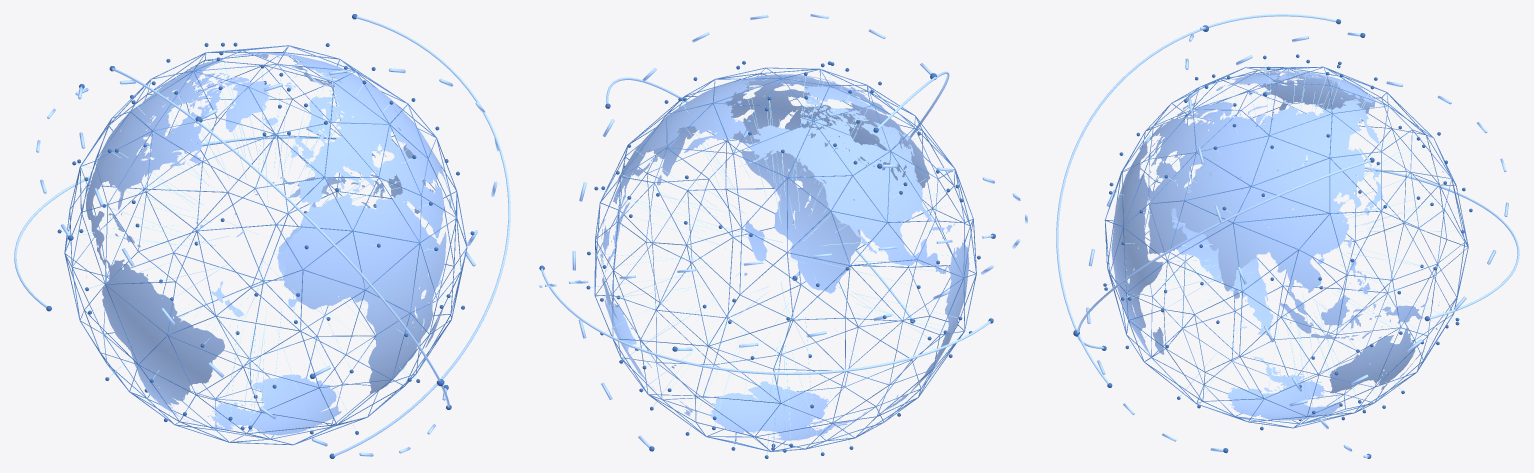
Rendered from Globe.glb.
3 views of the same model, side by side, from view 1: azimuth 30°, elevation 25°; view 2: azimuth 150°, elevation 25°; view 3: azimuth 270°, elevation 25° (orthographic). The views are drawn at different scales.
Parts seen in each view (by area): view 1: Earth, wires2, Sphere, Curve, Curve.002, Sphere.001, Curve.003, Curve.004, Curve.001; view 2: Earth, wires2, Sphere, Curve.003, Sphere.001, Curve.001, Curve.004, Curve, Curve.002, Curve.005; view 3: Earth, wires2, Sphere, Curve.002, Sphere.001, Curve, Curve.003, Curve.004, Curve.005, Curve.001.
Boxes of the visible parts, x1=… form: Earth: x1=86, y1=52, x2=452, y2=435; wires2: x1=64, y1=45, x2=467, y2=445; Sphere: x1=61, y1=47, x2=470, y2=430; Curve: x1=334, y1=16, x2=510, y2=456; Curve.002: x1=112, y1=68, x2=449, y2=407; Sphere.001: x1=57, y1=42, x2=474, y2=434; Curve.003: x1=14, y1=136, x2=340, y2=307; Curve.004: x1=78, y1=86, x2=447, y2=456; Curve.001: x1=201, y1=68, x2=498, y2=376; Earth: x1=600, y1=74, x2=969, y2=440; wires2: x1=594, y1=67, x2=976, y2=451; Sphere: x1=590, y1=65, x2=976, y2=454; Curve.003: x1=540, y1=268, x2=990, y2=374; Sphere.001: x1=586, y1=61, x2=980, y2=458; Curve.001: x1=572, y1=14, x2=932, y2=447; Curve.004: x1=677, y1=164, x2=1027, y2=350; Curve: x1=606, y1=77, x2=912, y2=318; Curve.002: x1=795, y1=71, x2=949, y2=276; Curve.005: x1=539, y1=235, x2=992, y2=287; Earth: x1=1111, y1=70, x2=1449, y2=420; wires2: x1=1104, y1=66, x2=1468, y2=428; Sphere: x1=1107, y1=58, x2=1468, y2=426; Curve.002: x1=1056, y1=14, x2=1336, y2=383; Sphere.001: x1=1103, y1=54, x2=1472, y2=430; Curve: x1=1077, y1=160, x2=1370, y2=348; Curve.003: x1=1305, y1=160, x2=1519, y2=319; Curve.004: x1=1086, y1=32, x2=1360, y2=451; Curve.005: x1=1267, y1=79, x2=1508, y2=406; Curve.001: x1=1185, y1=26, x2=1369, y2=457.
Bounding box in the file's own units: 8.56 × 7.49 × 8.62.
5 materials, 1 textured.
